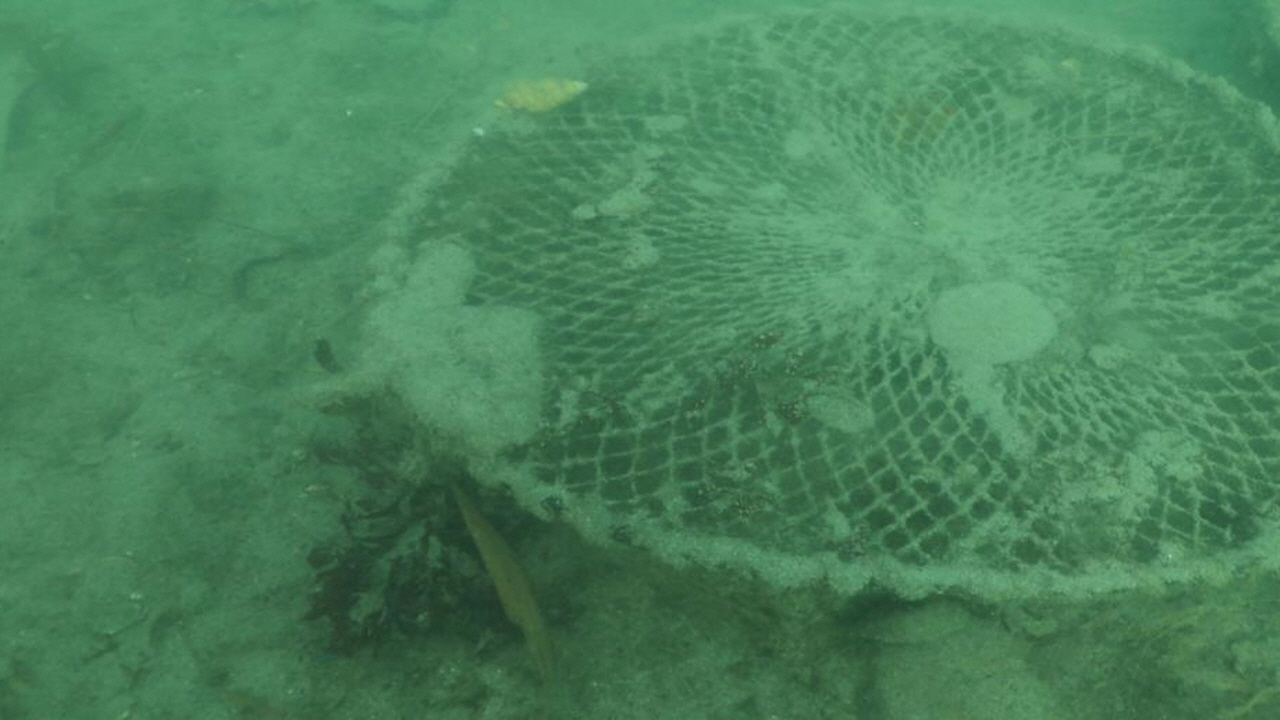circular fish trap: (375, 0, 1280, 597)
